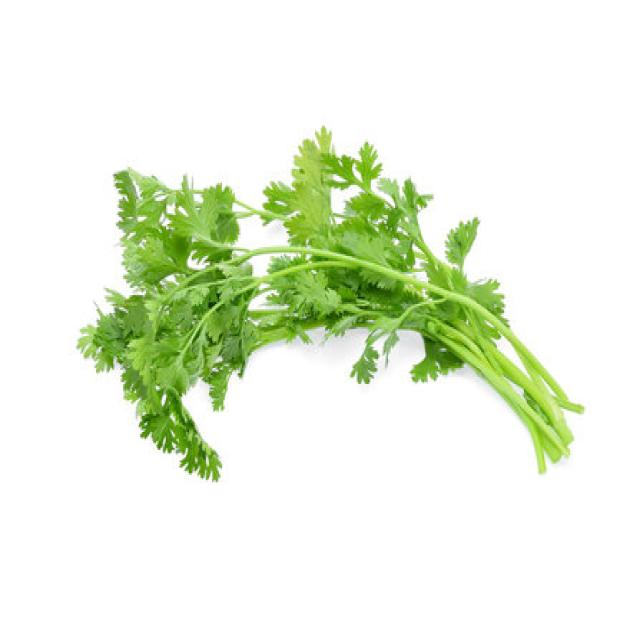Coriander Leaves: (76, 124, 584, 482)
